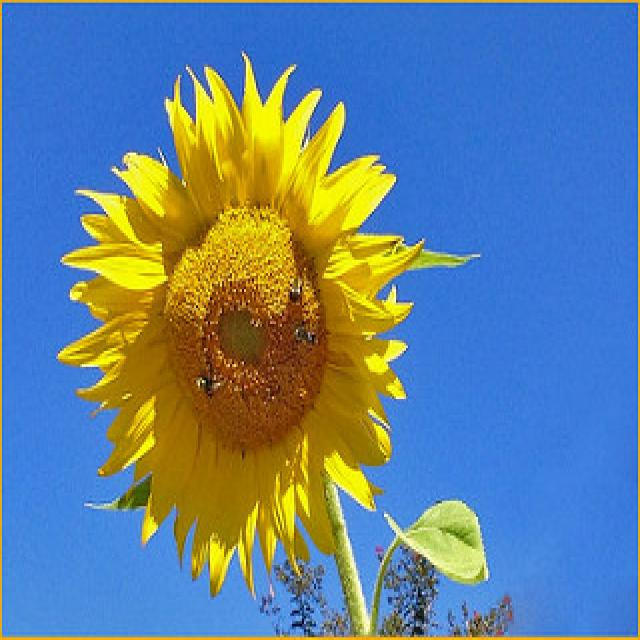sunflower: (55, 44, 427, 601)
